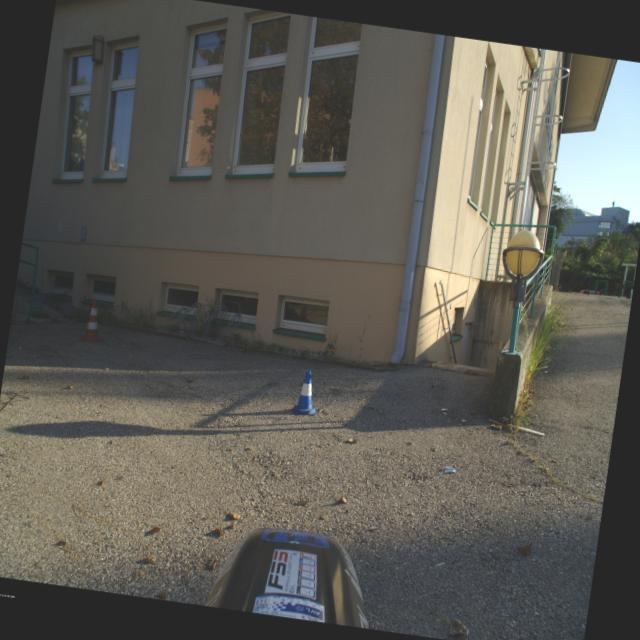blue_cone: (292, 368, 322, 418)
large_orange_cone: (81, 297, 108, 343)
